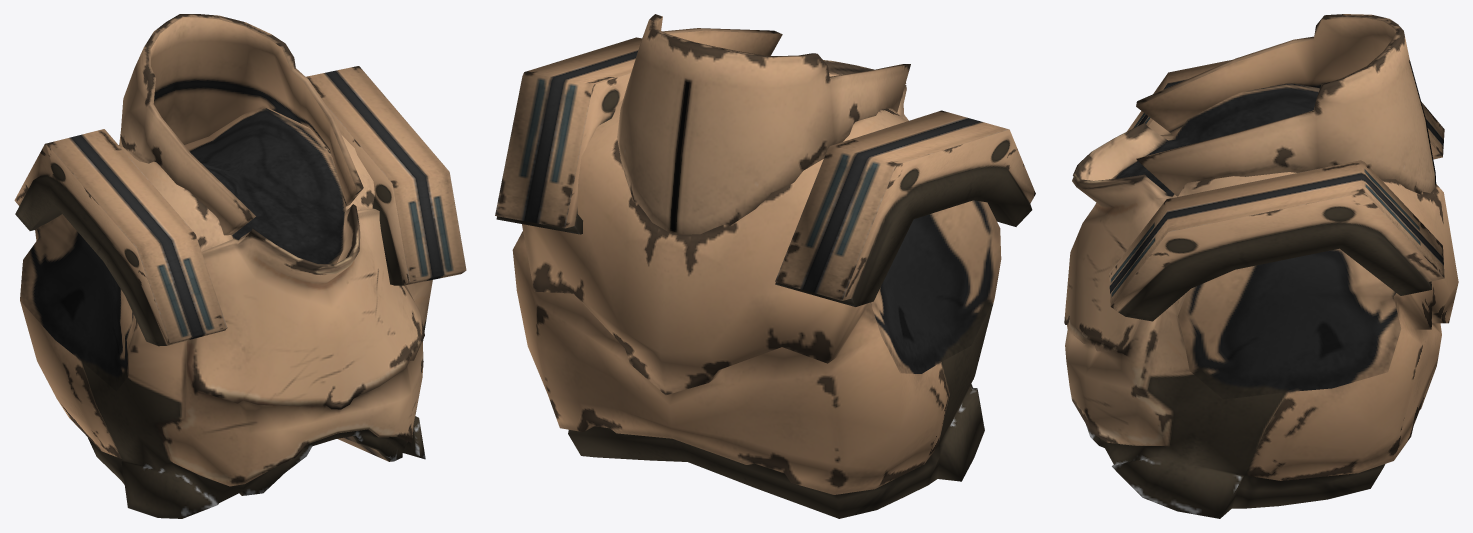
The model's file is armor.dae.
The picture shows the model from 3 angles, left to right: view 1: azimuth 30°, elevation 25°; view 2: azimuth 150°, elevation 25°; view 3: azimuth 270°, elevation 25°; orthographic projection. The views are drawn at different scales.
Visible parts, largest first — view 1: armor.001; view 2: armor.001; view 3: armor.001.
Boxes of the visible parts, left/top/right/bottom form: armor.001: left=14, top=14, right=466, bottom=518; armor.001: left=495, top=14, right=1035, bottom=518; armor.001: left=1064, top=14, right=1458, bottom=518.
Bounding box in the file's own units: 1.18 × 1.17 × 1.36.
